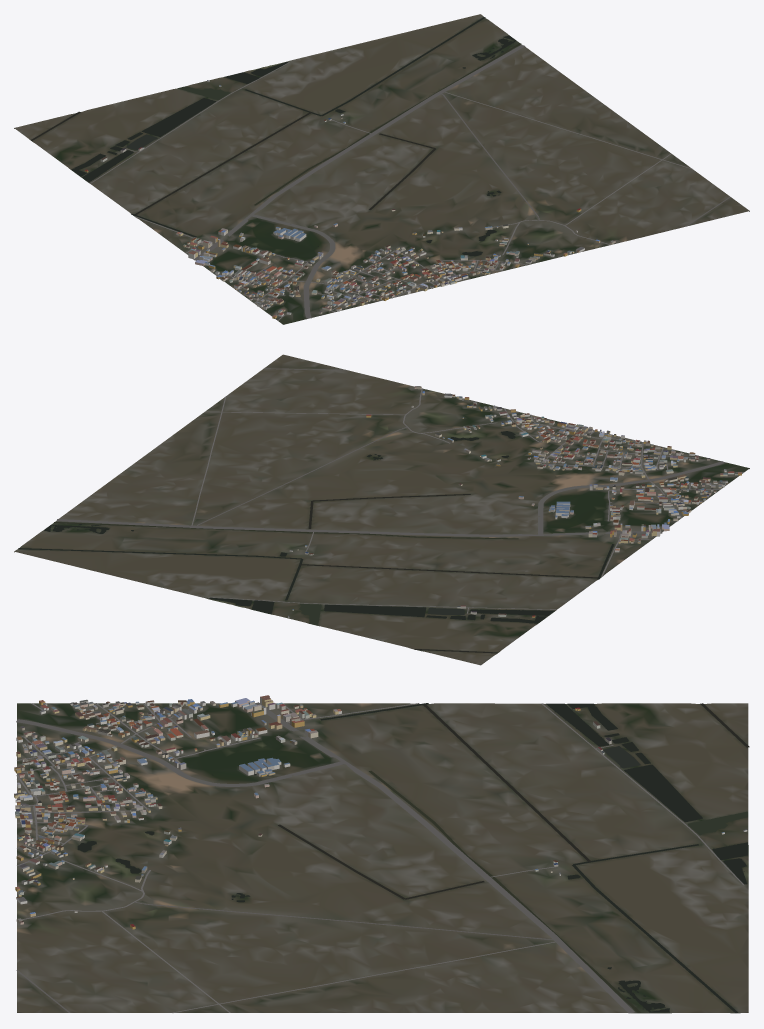
3 renders of one model, top to bottom at view 1: azimuth 30°, elevation 25°; view 2: azimuth 150°, elevation 25°; view 3: azimuth 270°, elevation 25°, orthographic. The views are drawn at different scales.
Parts seen in each view (by area): view 1: ground, buildings, water, roads; view 2: ground, buildings, water, roads; view 3: ground, buildings, water, roads.
Part boxes in pixels (x1=…): ground: x1=14, y1=14, x2=749, y2=324; buildings: x1=84, y1=80, x2=615, y2=318; water: x1=30, y1=17, x2=521, y2=256; roads: x1=90, y1=45, x2=730, y2=320; ground: x1=14, y1=354, x2=749, y2=665; buildings: x1=288, y1=386, x2=741, y2=617; water: x1=18, y1=431, x2=614, y2=653; roads: x1=56, y1=368, x2=744, y2=613; ground: x1=17, y1=703, x2=748, y2=1013; buildings: x1=14, y1=695, x2=747, y2=929; water: x1=77, y1=703, x2=749, y2=1013; roads: x1=16, y1=702, x2=744, y2=1013.
Bounding box in the file's own units: 1418 × 24.31 × 1410.
